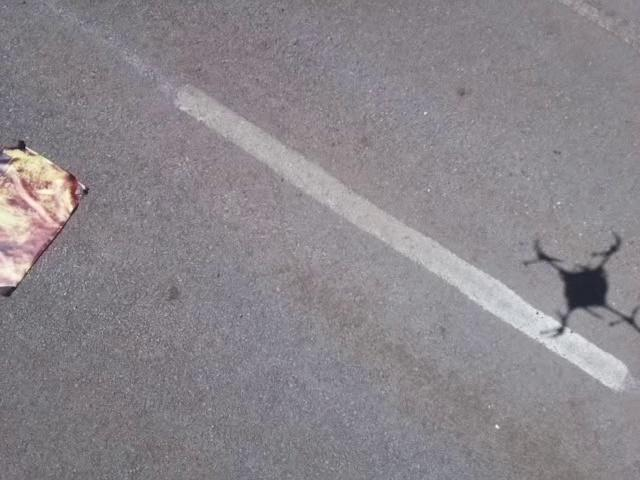fire-poster: (0, 136, 90, 299)
